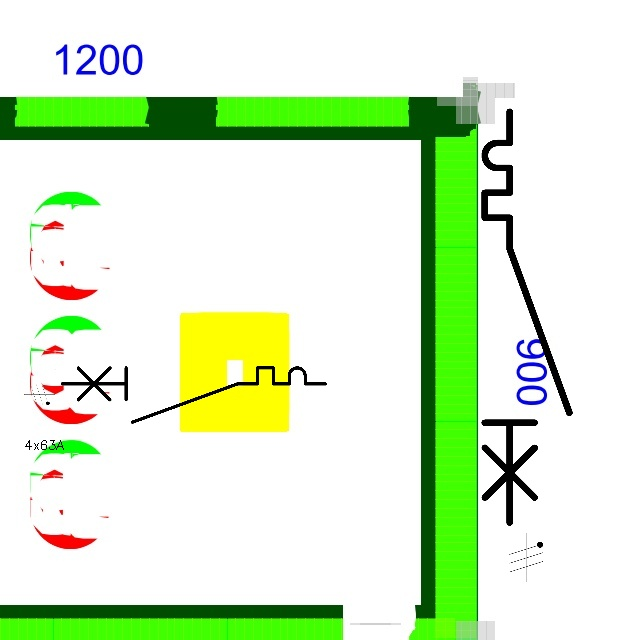interruptor_termomagnetico: (474, 101, 580, 533), (55, 361, 332, 428)
